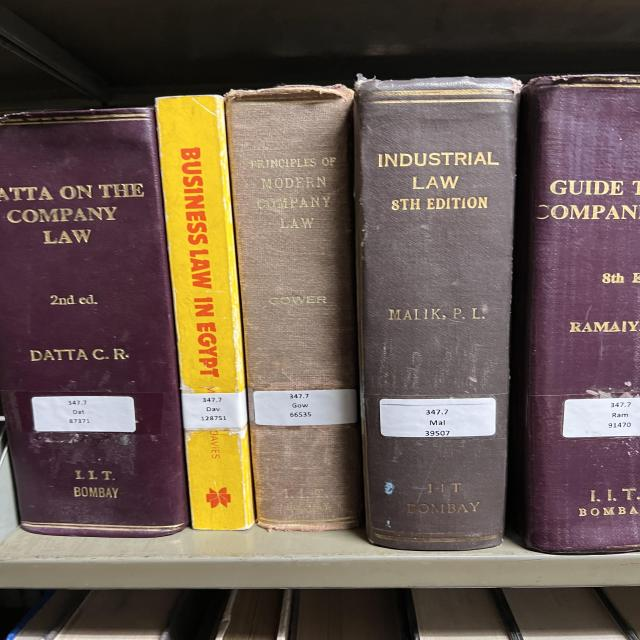Book: (0, 109, 188, 538), (355, 78, 520, 550), (510, 75, 640, 552), (225, 85, 362, 531), (157, 95, 255, 530)
Label: (380, 398, 497, 438), (253, 389, 357, 426), (32, 396, 135, 432), (563, 398, 640, 438), (182, 390, 247, 429)
